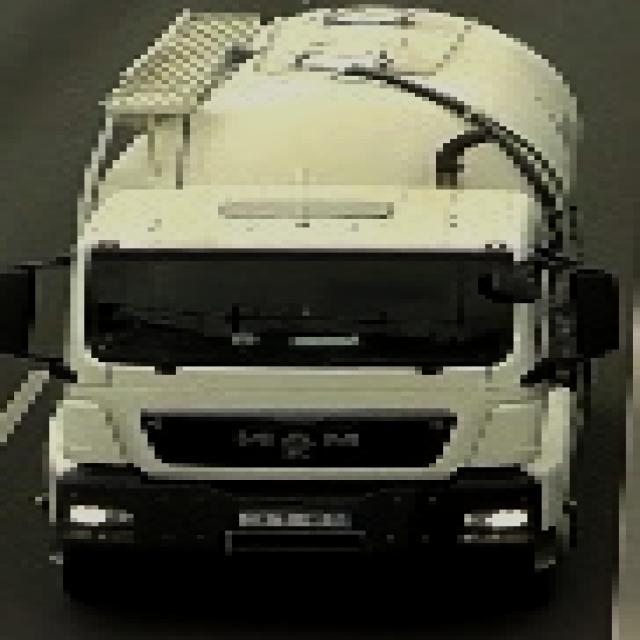truck: (1, 1, 613, 599)
